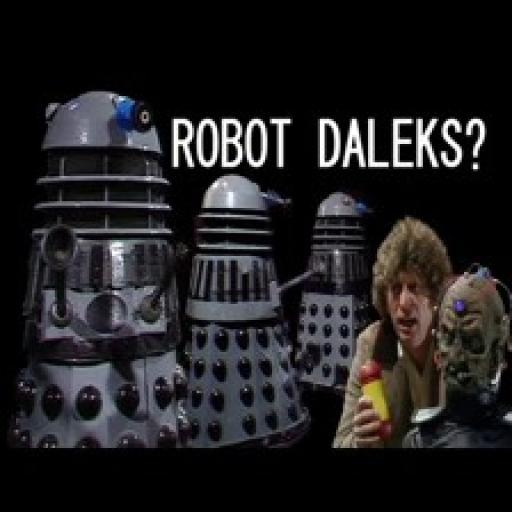dalek: (6, 90, 194, 454), (182, 171, 332, 447), (295, 185, 382, 393)
